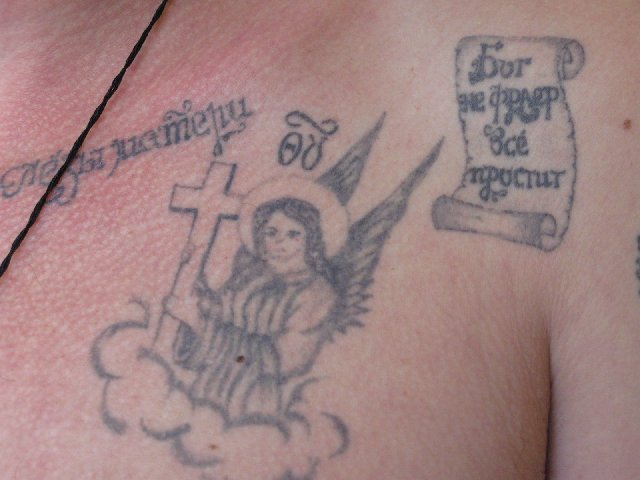tatu1_angel: (150, 154, 403, 470)
tatu3_bukva: (442, 33, 591, 244), (2, 92, 266, 197)
